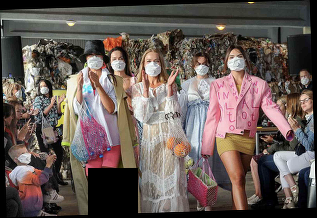with_mask: (144, 57, 163, 78), (227, 52, 245, 73), (86, 52, 104, 71), (110, 55, 127, 72), (194, 60, 209, 78), (17, 150, 32, 166), (298, 74, 310, 86), (39, 84, 50, 96), (15, 87, 23, 100)
without_mask: (299, 96, 312, 113), (7, 112, 15, 128), (16, 107, 25, 121)
